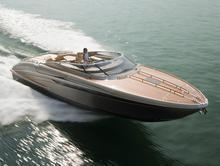yacht: (9, 47, 211, 124)
